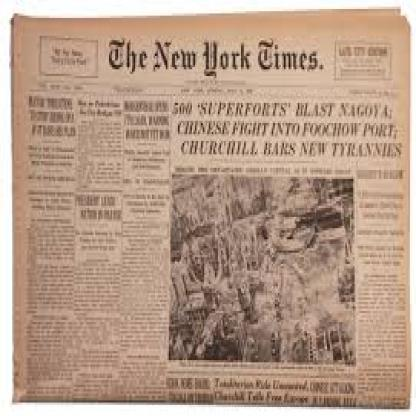paper: (9, 11, 410, 405)
